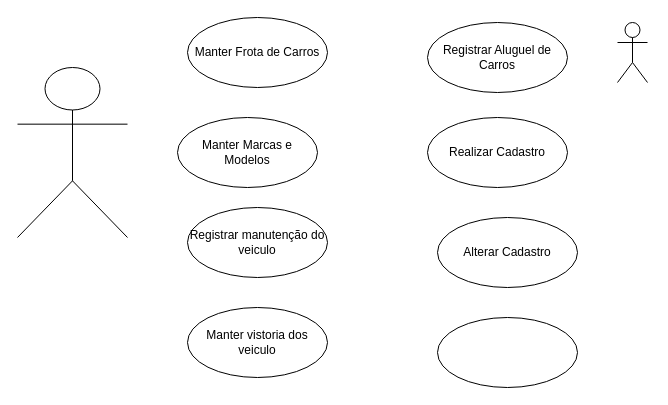
Some shapes in this 668 by 405 pixel diagram are drawn without their labels. Here are the shapes that lost their labels. From the top down, the box of each, then its label:
(616, 22, 648, 82): Cliente
(16, 66, 128, 238): Loja
